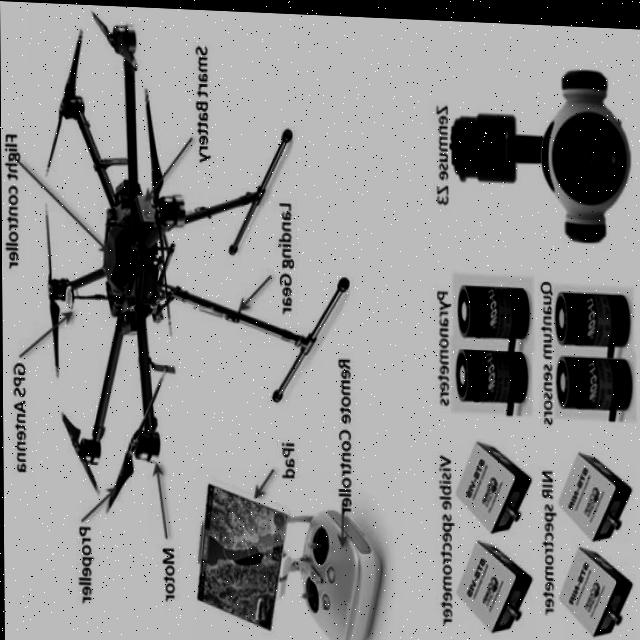drone: (36, 22, 232, 543)
